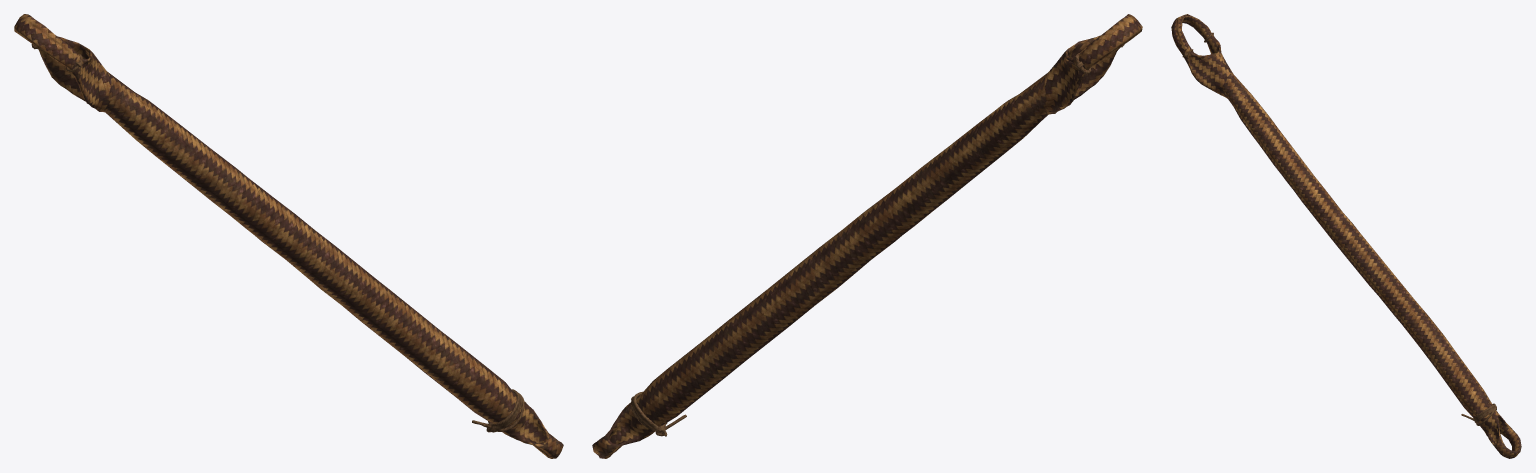
Rendered from SM_Tipiti.glb.
3 views of the same model, side by side, from view 1: azimuth 30°, elevation 25°; view 2: azimuth 150°, elevation 25°; view 3: azimuth 330°, elevation 25° (orthographic). The views are drawn at different scales.
Visible parts, largest first — view 1: SM_Tipiti; view 2: SM_Tipiti; view 3: SM_Tipiti.
Part boxes in pixels (x1,y1,x2,y2): SM_Tipiti: (14, 14, 563, 458); SM_Tipiti: (592, 14, 1142, 458); SM_Tipiti: (1171, 14, 1521, 458).
Bounding box in the file's own units: 1.04 × 1.03 × 0.1484.
1 material, 1 textured.
